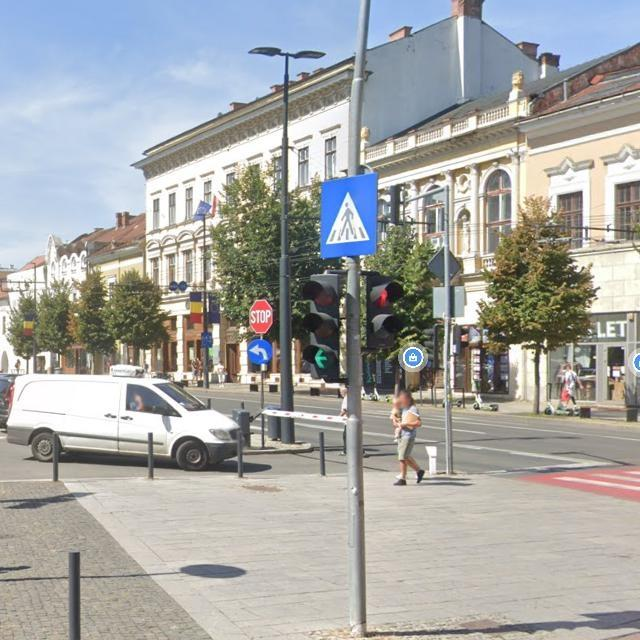info_crosswalk: (319, 173, 377, 257)
prio_stop: (250, 300, 273, 333)
